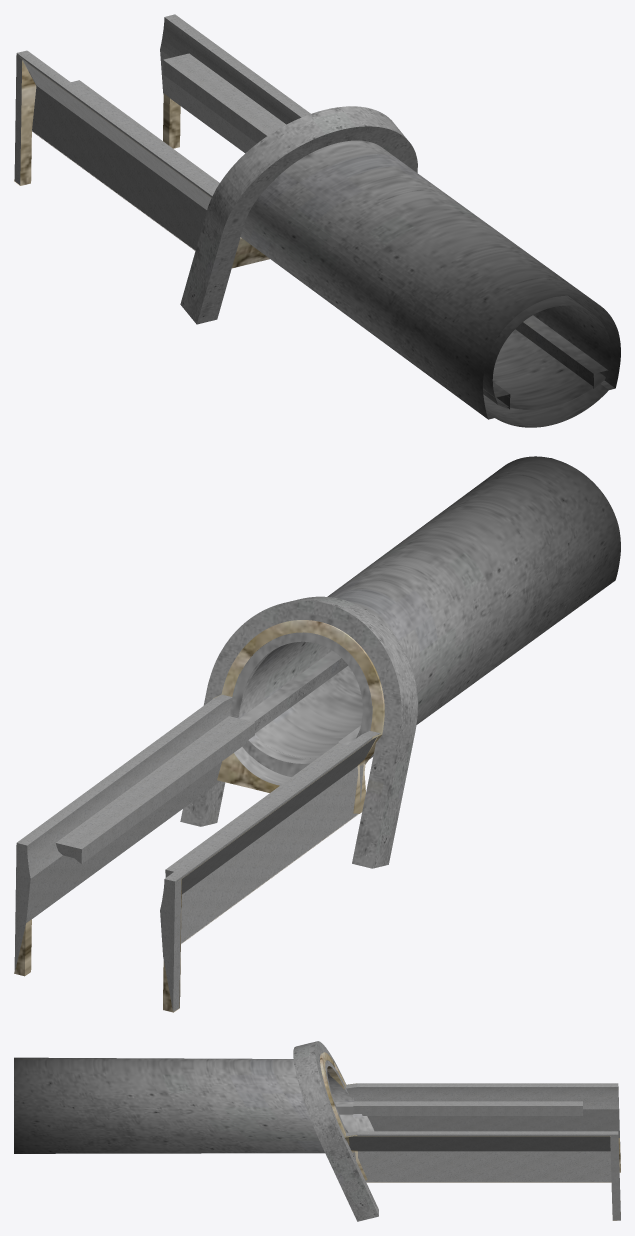
File: railway-portal.glb
The picture shows the model from 3 angles, top to bottom: view 1: azimuth 30°, elevation 25°; view 2: azimuth 150°, elevation 25°; view 3: azimuth 270°, elevation 25°; orthographic projection. The views are drawn at different scales.
Parts seen in each view (by area): view 1: portal-concrete, portal-stone; view 2: portal-concrete, portal-stone; view 3: portal-concrete, portal-stone.
Part boxes in pixels (x1=…): portal-concrete: x1=14, y1=14, x2=620, y2=427; portal-stone: x1=14, y1=58, x2=269, y2=268; portal-concrete: x1=14, y1=456, x2=620, y2=1011; portal-stone: x1=14, y1=620, x2=384, y2=1012; portal-concrete: x1=14, y1=1041, x2=620, y2=1221; portal-stone: x1=320, y1=1052, x2=620, y2=1220.
Size of the model in its own units: 12.97 by 14.28 by 53.59.
Materials: 3 (2 with a texture image).
